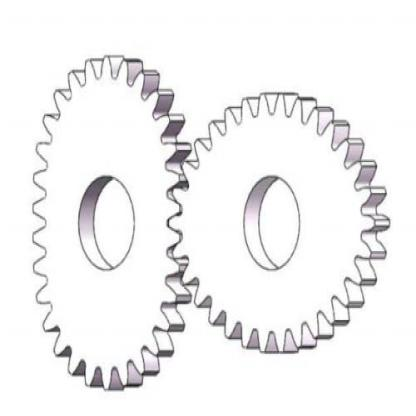FOD: (164, 88, 396, 358), (30, 51, 190, 393)
